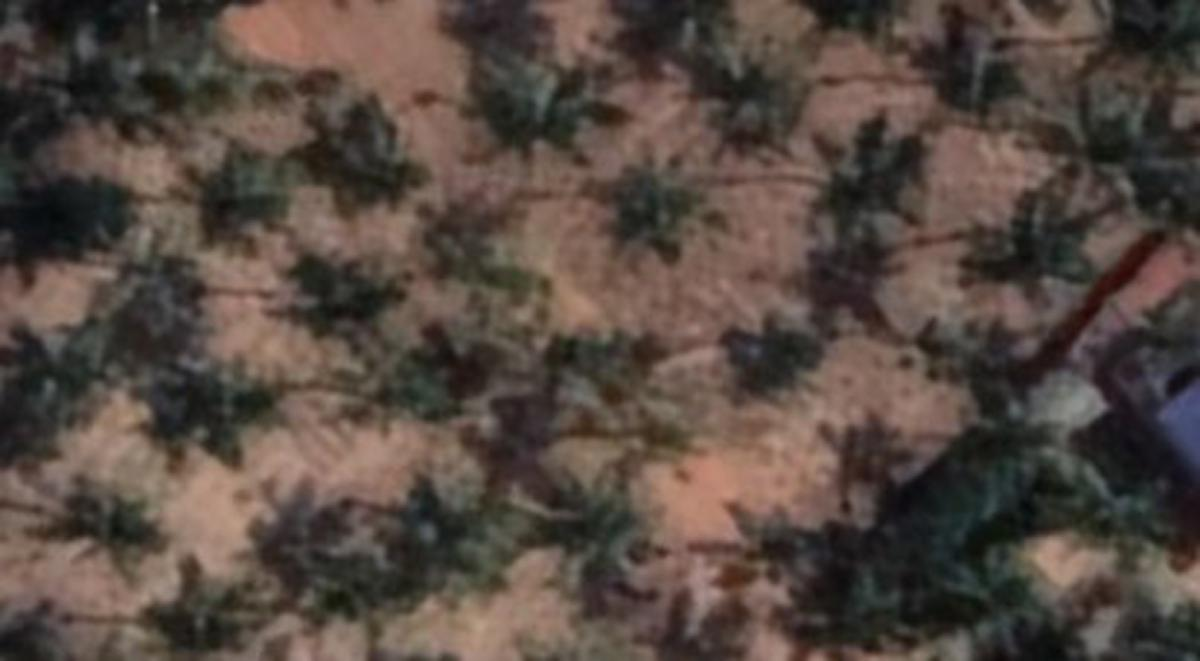coconut: (390, 483, 541, 626), (955, 174, 1100, 314), (128, 358, 279, 483), (448, 43, 600, 165), (288, 256, 422, 384), (591, 165, 716, 297), (308, 93, 442, 215), (567, 477, 684, 614), (929, 314, 1060, 436), (830, 113, 964, 232), (151, 556, 297, 658), (719, 317, 844, 428), (693, 46, 809, 154), (174, 136, 279, 235), (46, 489, 145, 576)
